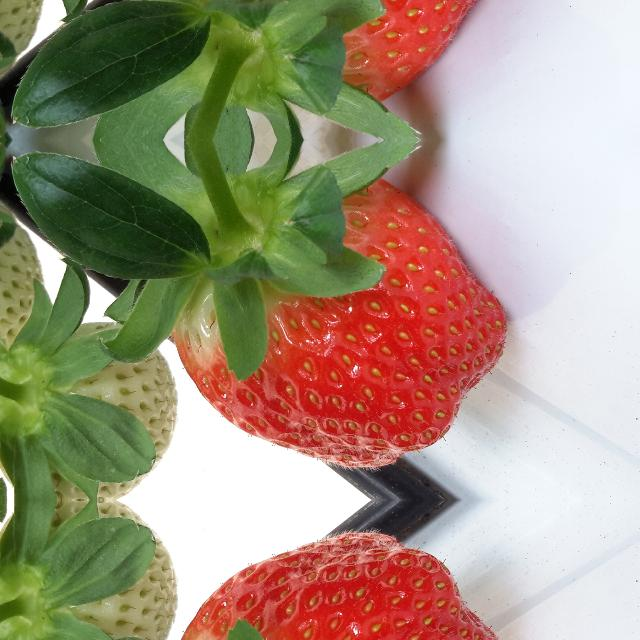Health_100: (174, 178, 506, 472), (173, 527, 506, 640), (173, 0, 506, 102)
Health_25: (3, 316, 176, 499), (3, 500, 176, 640)
